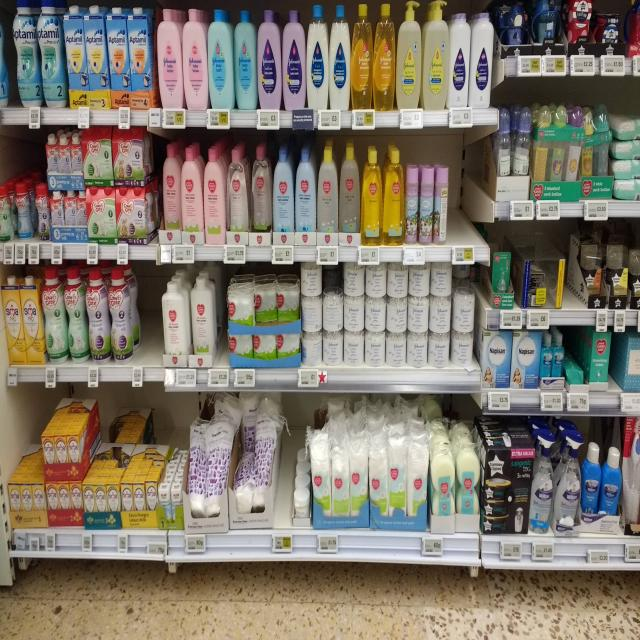void: (276, 394, 290, 563), (466, 132, 479, 263), (451, 129, 464, 259), (481, 132, 494, 261), (216, 269, 230, 388), (133, 268, 147, 381), (148, 268, 162, 380), (150, 134, 162, 261), (568, 228, 583, 324), (622, 1, 635, 76)
